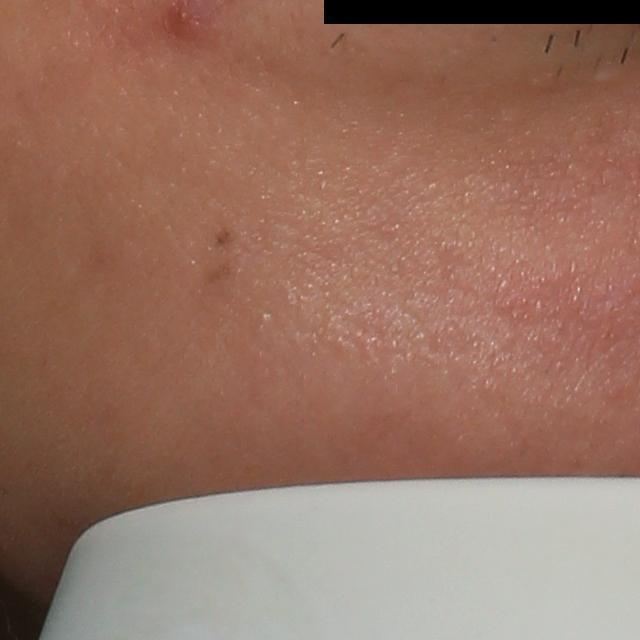hypertrophic_scar: (587, 67, 629, 90)
